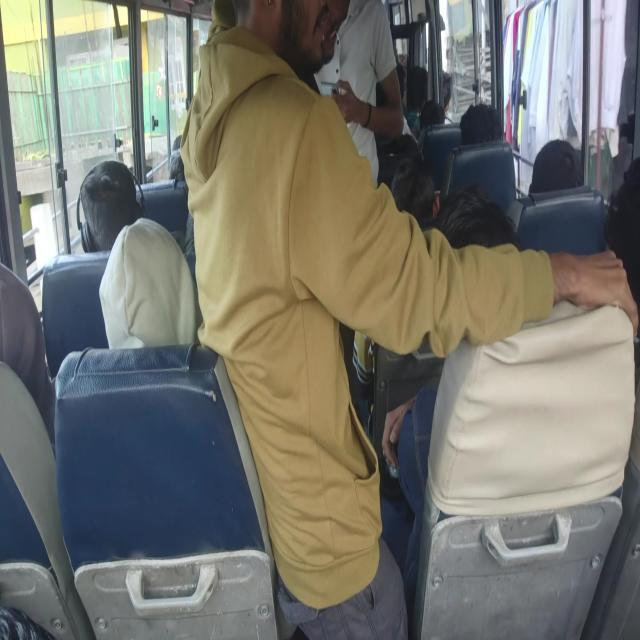person: (195, 9, 383, 472), (290, 0, 398, 129), (104, 230, 188, 356), (444, 197, 523, 304), (609, 177, 640, 367), (78, 166, 144, 255), (366, 143, 434, 228), (0, 266, 44, 368), (532, 134, 584, 216), (456, 104, 509, 160), (403, 61, 429, 108), (420, 104, 441, 134)
